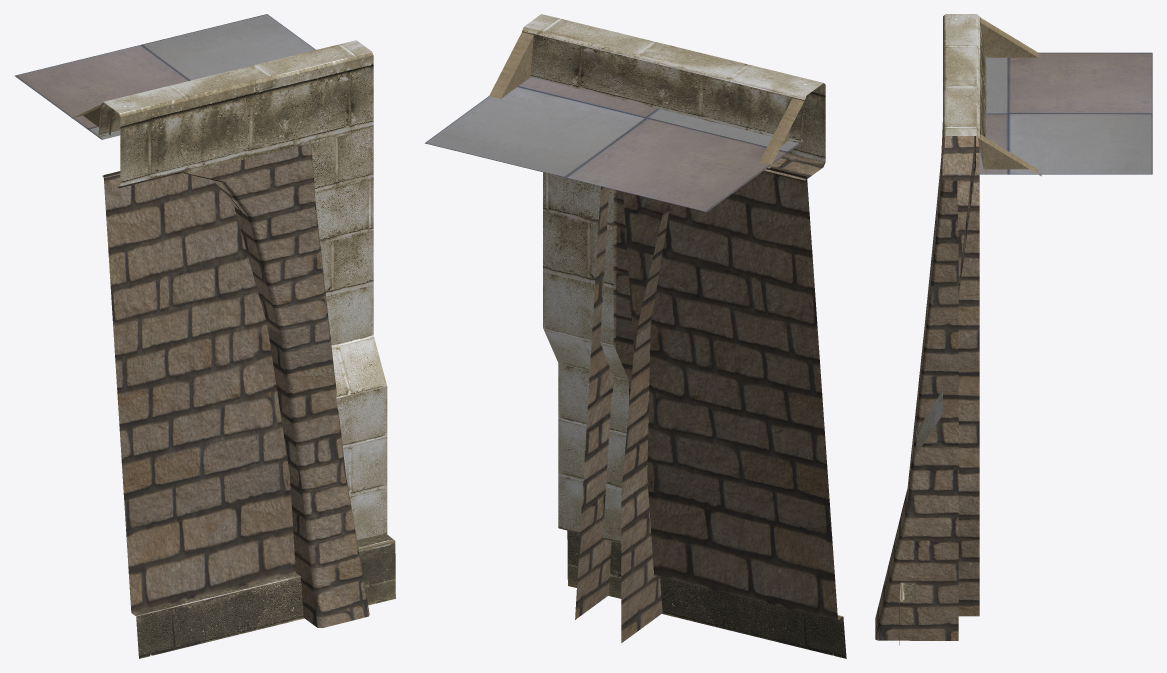
Rendered from castle-wall2-right.fbx.
The picture shows the model from 3 angles, left to right: view 1: azimuth 30°, elevation 25°; view 2: azimuth 150°, elevation 25°; view 3: azimuth 270°, elevation 25°; orthographic projection. The views are drawn at different scales.
Visible parts, largest first — view 1: castle-wall2-right; view 2: castle-wall2-right; view 3: castle-wall2-right.
Part boxes in pixels (x1,y1,x2,y2): castle-wall2-right: (14, 14, 395, 658); castle-wall2-right: (425, 14, 846, 658); castle-wall2-right: (875, 14, 1152, 645).
Size of the model in its own units: 200 by 401 by 192.
